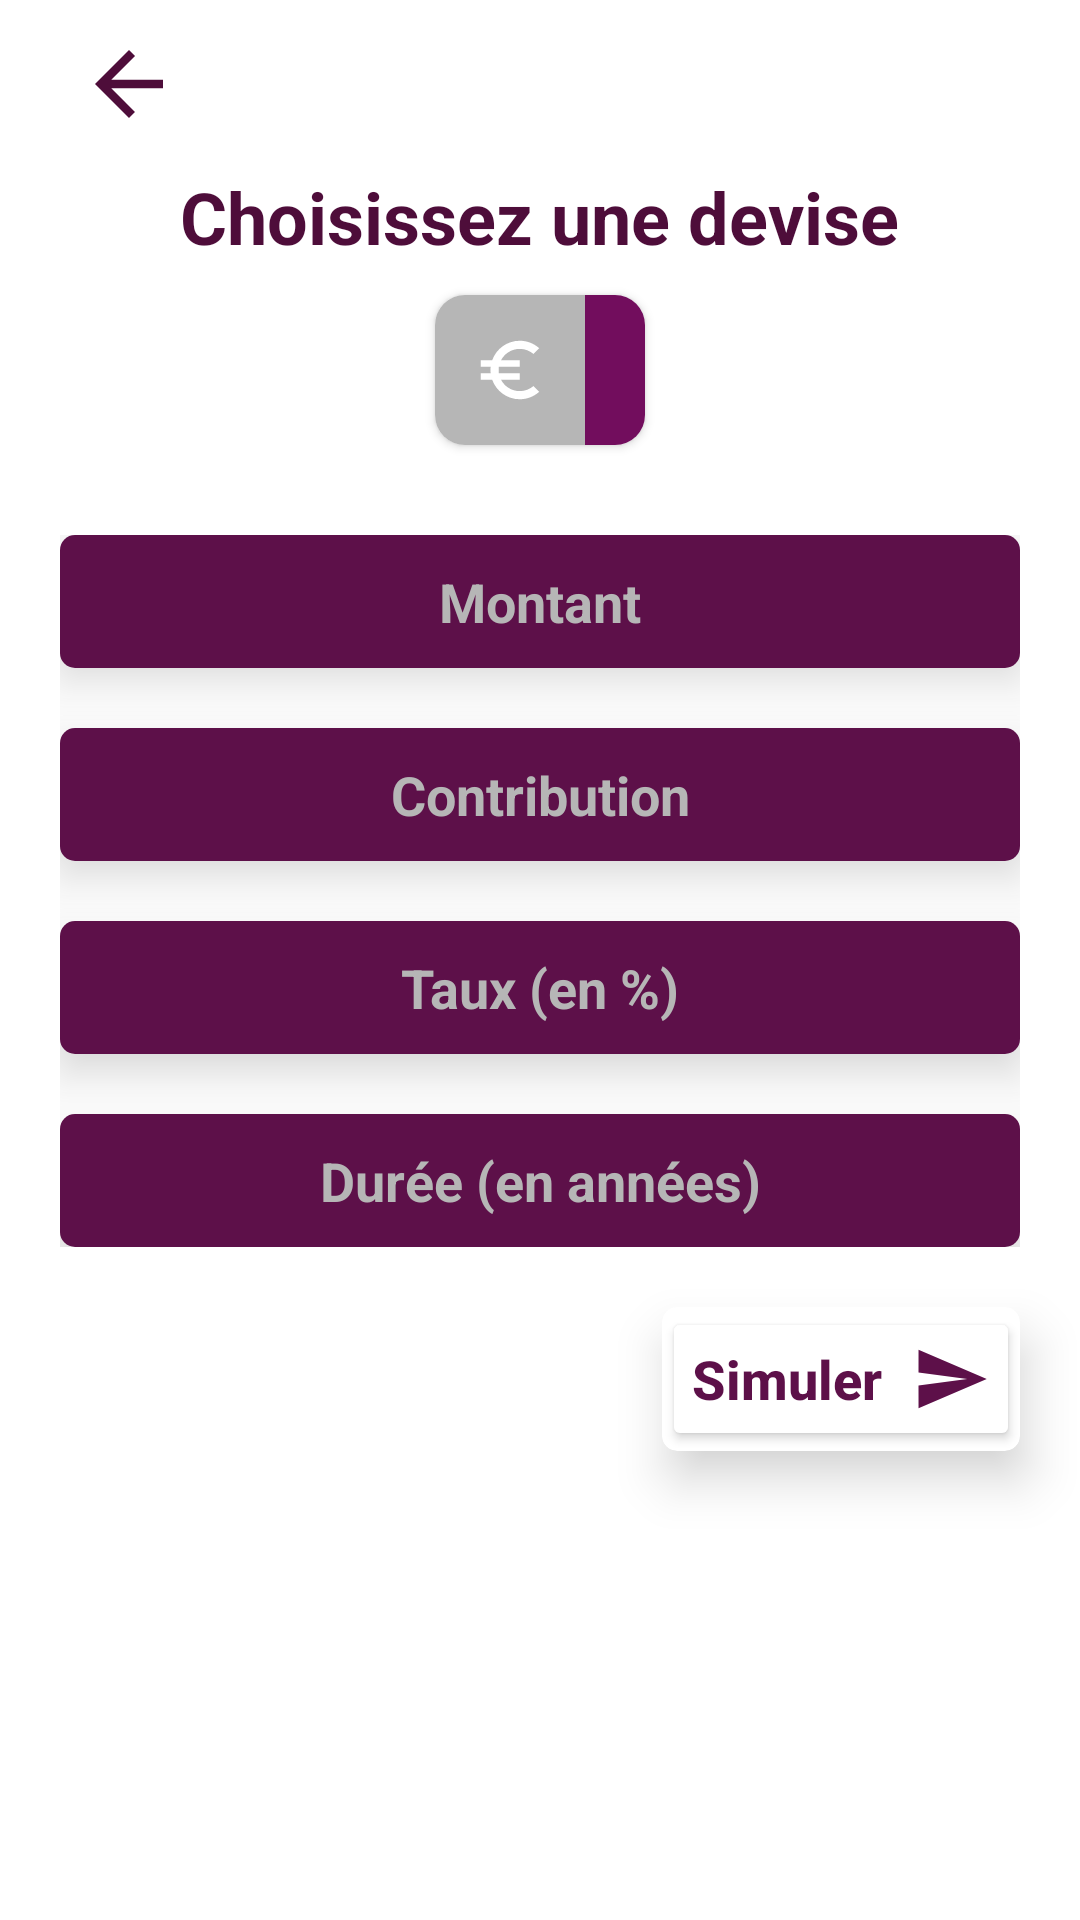

Screen size 1080px x 1920px. Icon name, then its center in pixels as point (x, y):
arrow back: point (129, 84)
euro: point (510, 370)
